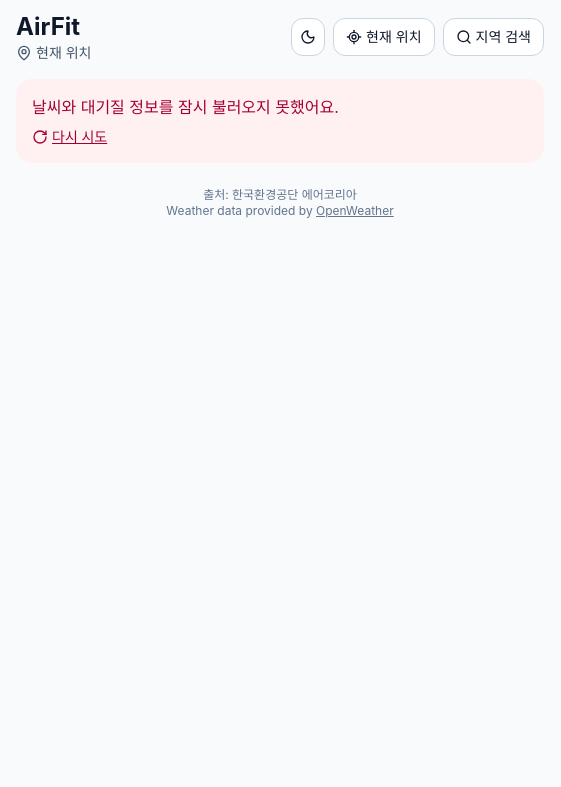
Test case: shows the server message and retries on error
Check: the message shows "날씨와 대기질 정보를 잠시 불러오지 못했어요.", box [32,97,339,117]
Click the button "다시 시도".
click(70, 137)  # box [32,127,107,147]
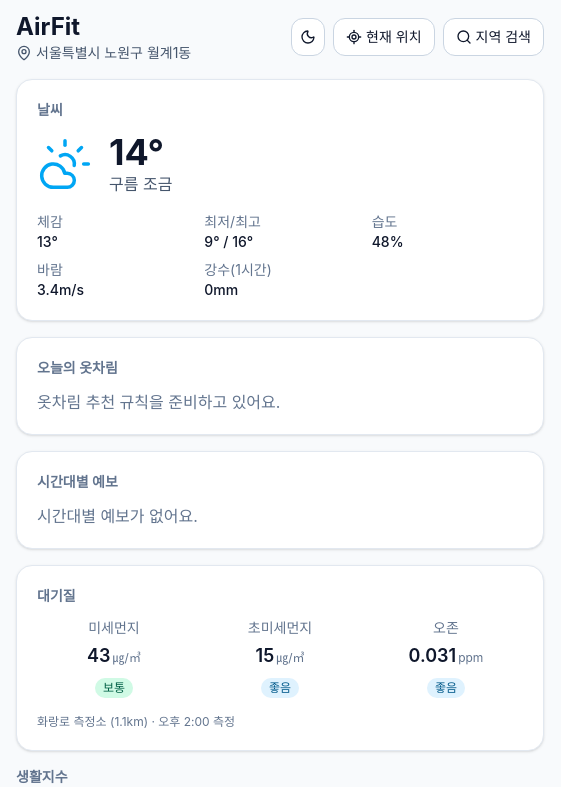
Check: the element "날씨" is shown, box [16,79,544,321]
